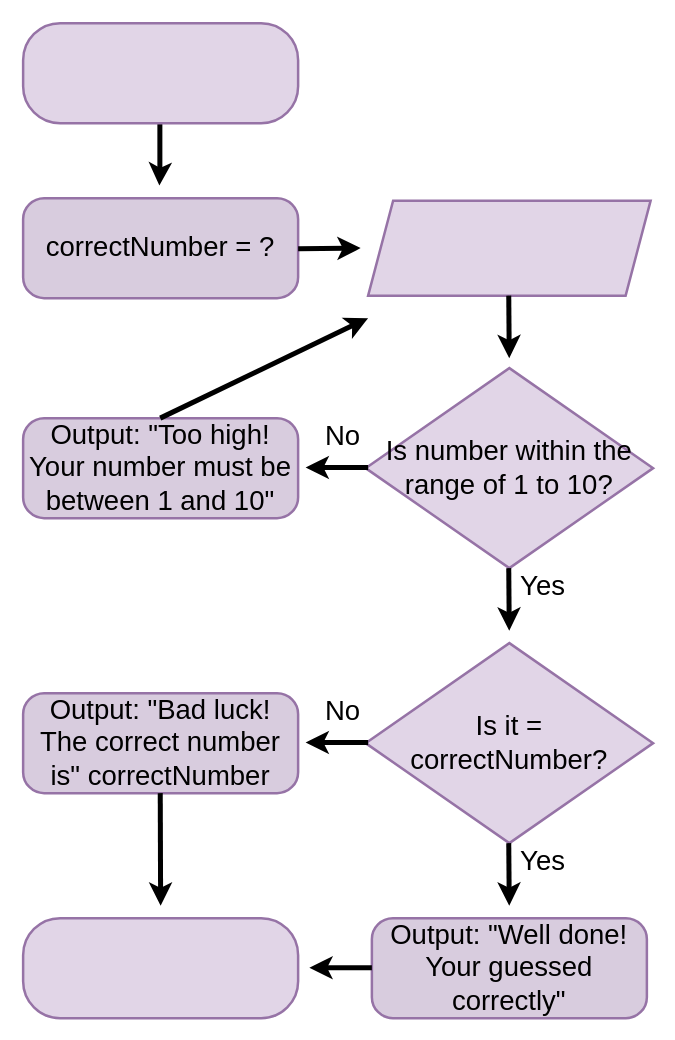
Some shapes in this 675 by 1040 pixel diagram are drawn without their labels. Here are the shapes that lost their labels. From the top down, the centre of each, then its label:
At (x=160, y=72): "Start".
At (x=508, y=247): "Input Number".
At (x=160, y=967): "End".
